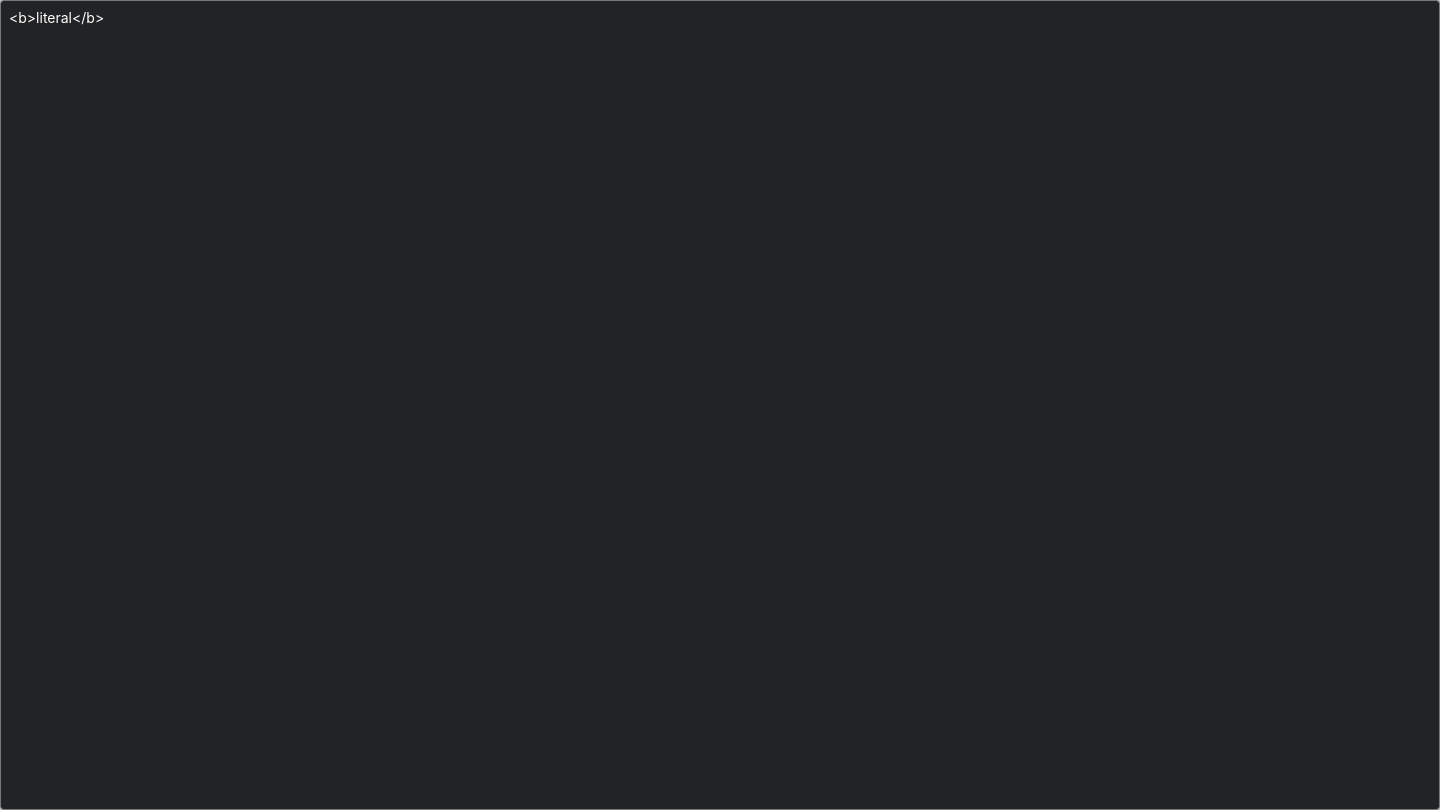
it: TextNode legacy HTML content › preserves legacy text on blur without typing: <textarea><b>literal</b></textarea>
This screenshot has width=1440, height=810.
Double-click the text "<b>literal</b>" at (57, 18), box [9,9,104,26]
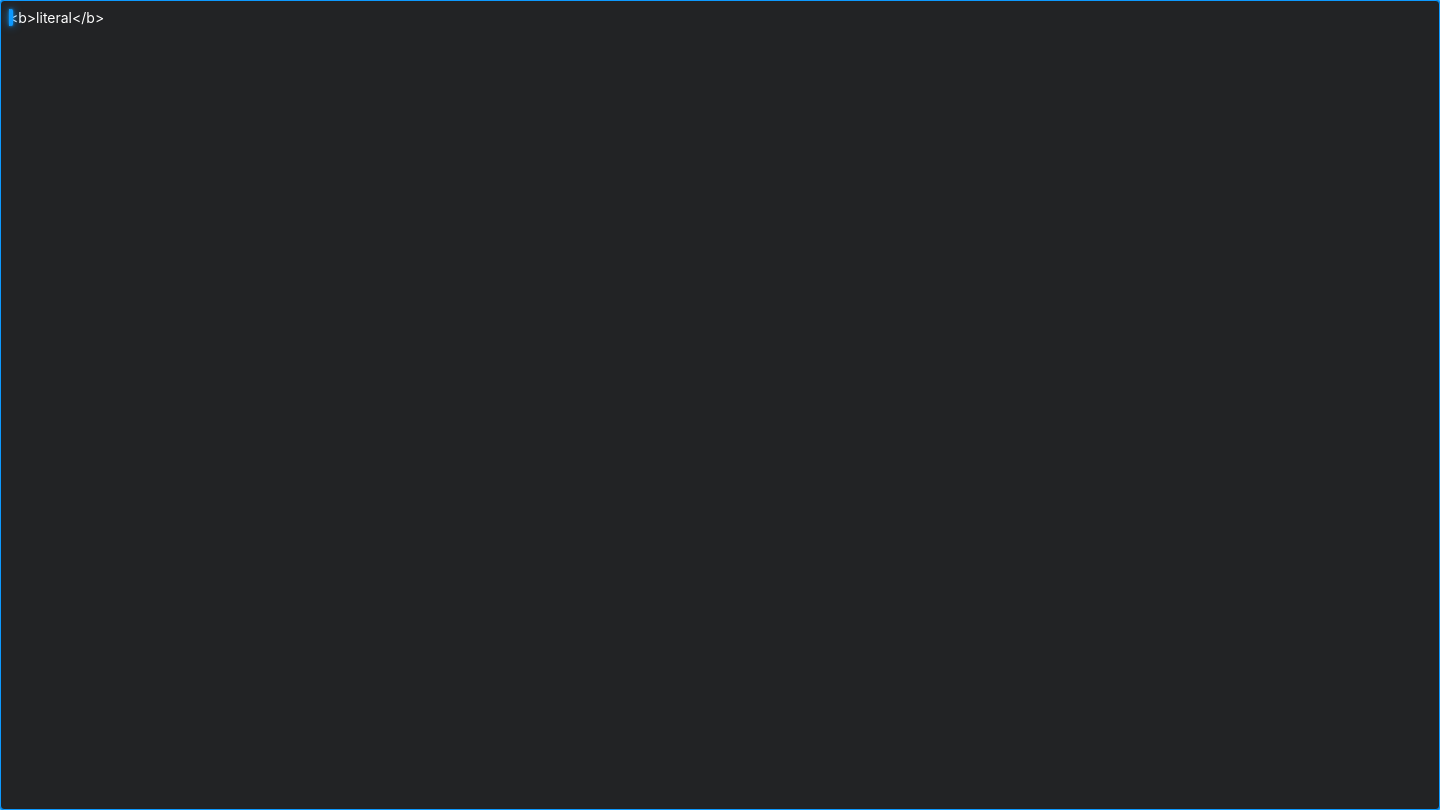
Result: the text box named "文本节点内容" holds "<b>literal</b>"
Leave the text box named "文本节点内容"
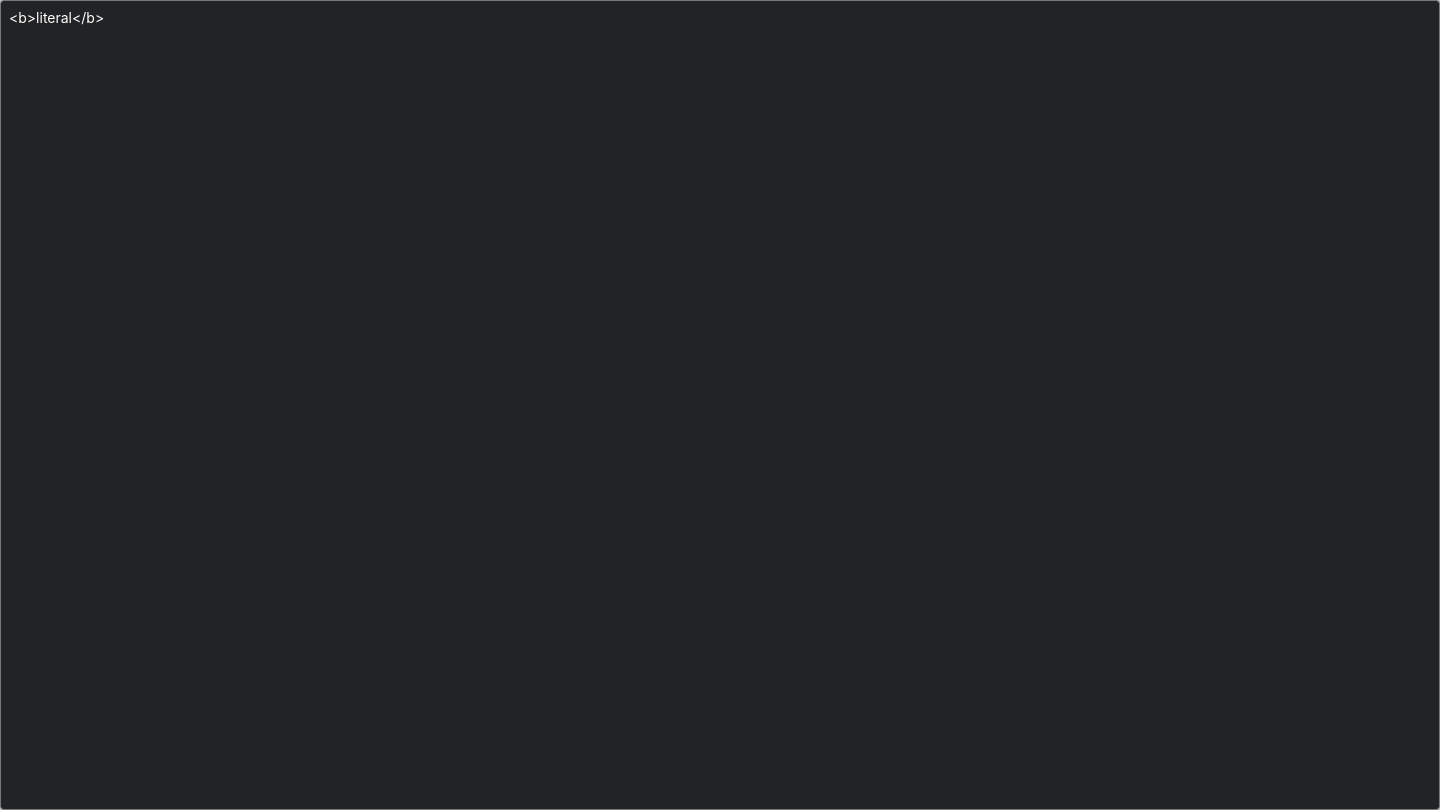
Result: the text "<b>literal</b>" is shown at [9,9,104,26]
